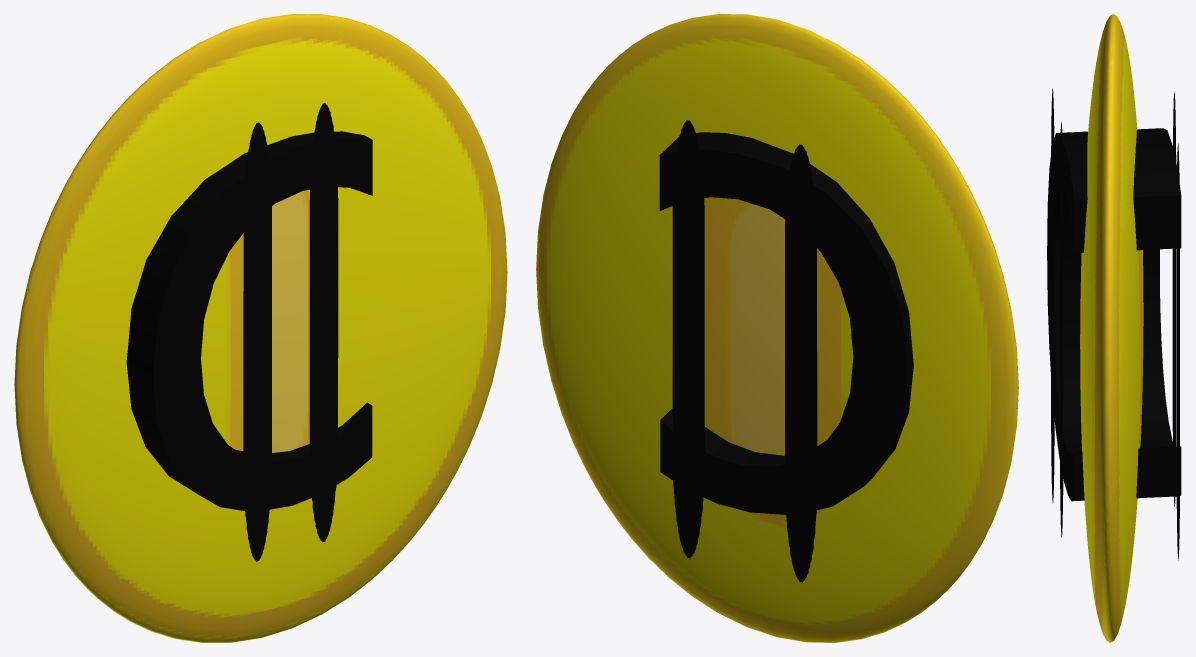
Rendered from 3DCOINCREDIT.fbx.
The picture shows the model from 3 angles, left to right: view 1: azimuth 30°, elevation 25°; view 2: azimuth 150°, elevation 25°; view 3: azimuth 270°, elevation 25°; orthographic projection. The views are drawn at different scales.
Visible parts, largest first — view 1: node_id26, node_id29, root (×2); view 2: node_id26, node_id29, root (×2); view 3: node_id26, node_id29, root (×4).
Boxes of the visible parts, <box> form: node_id26: <box>14,14,507,642</box>; node_id29: <box>126,131,372,510</box>; root (×2): <box>243,103,338,561</box>; node_id26: <box>536,14,1018,642</box>; node_id29: <box>659,132,913,514</box>; root (×2): <box>672,120,817,582</box>; node_id26: <box>1080,14,1143,642</box>; node_id29: <box>1047,128,1181,501</box>; root (×4): <box>1051,88,1179,560</box>.
Size of the model in its own units: 0.2795 by 0.3389 by 0.0705.
Materials: 6 (5 with a texture image).
